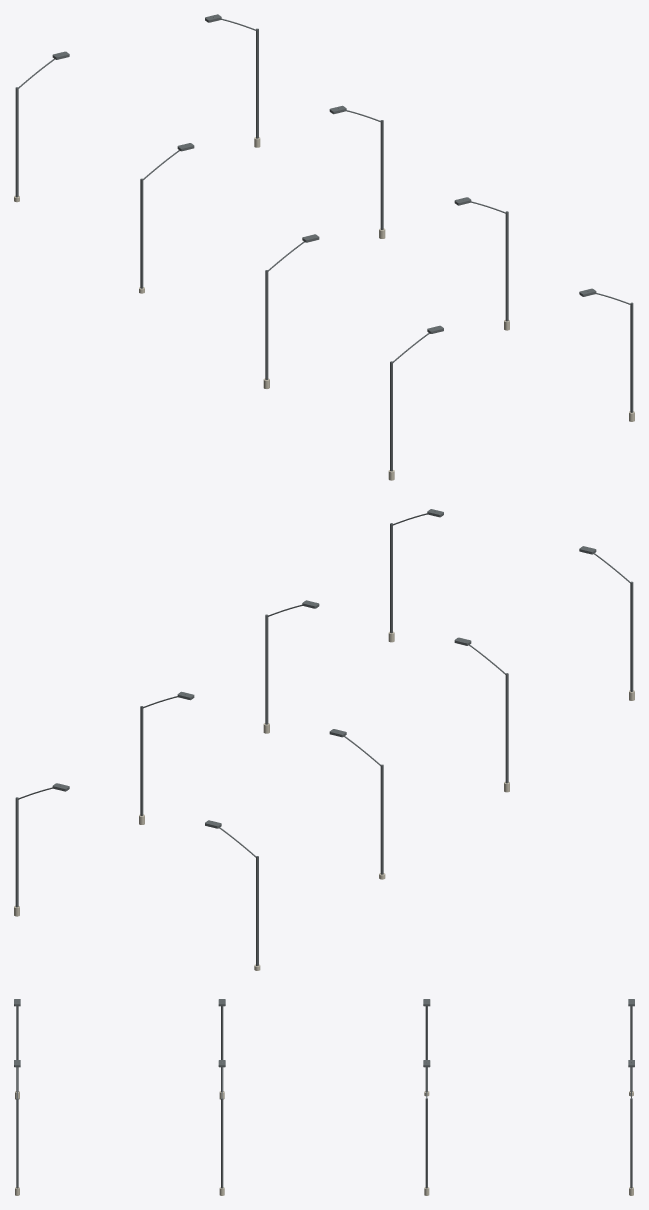
The picture shows the model from 3 angles, top to bottom: view 1: azimuth 30°, elevation 25°; view 2: azimuth 150°, elevation 25°; view 3: azimuth 270°, elevation 25°; orthographic projection. The views are drawn at different scales.
Parts seen in each view (by area): view 1: buildings_s_1_1_Dark_Metal; view 2: buildings_s_1_1_Dark_Metal; view 3: buildings_s_1_1_Dark_Metal, buildings_s_1_1_Warm_Limestone.
Boxes of the visible parts, x1,y1,x2,y2 form: buildings_s_1_1_Dark_Metal: [15, 14, 633, 471]; buildings_s_1_1_Dark_Metal: [15, 509, 633, 965]; buildings_s_1_1_Dark_Metal: [14, 999, 634, 1188]; buildings_s_1_1_Warm_Limestone: [15, 1091, 633, 1195].
Size of the model in its own units: 30.67 by 16.75 by 81.9.
